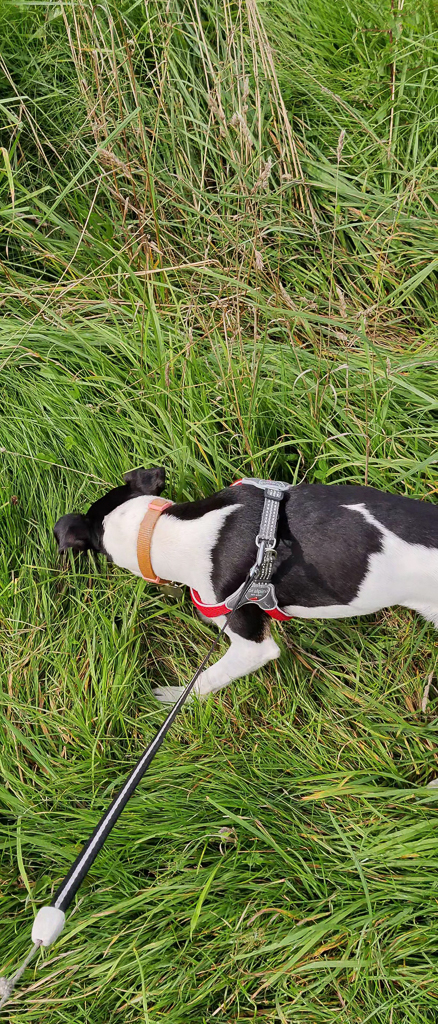Dog: (44, 455, 438, 717)
